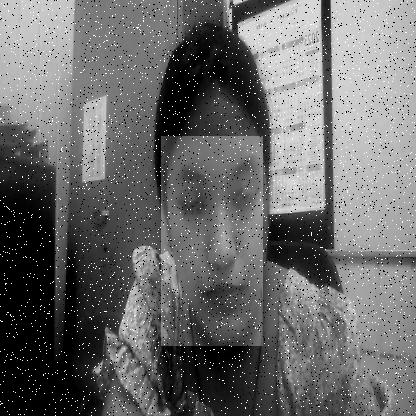Normal: (160, 136, 262, 346)
